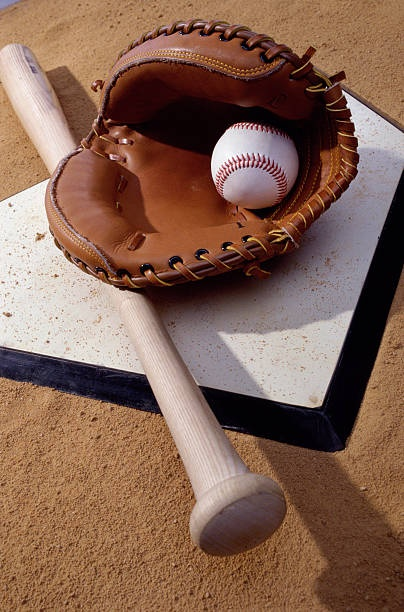bita: (2, 44, 272, 548)
